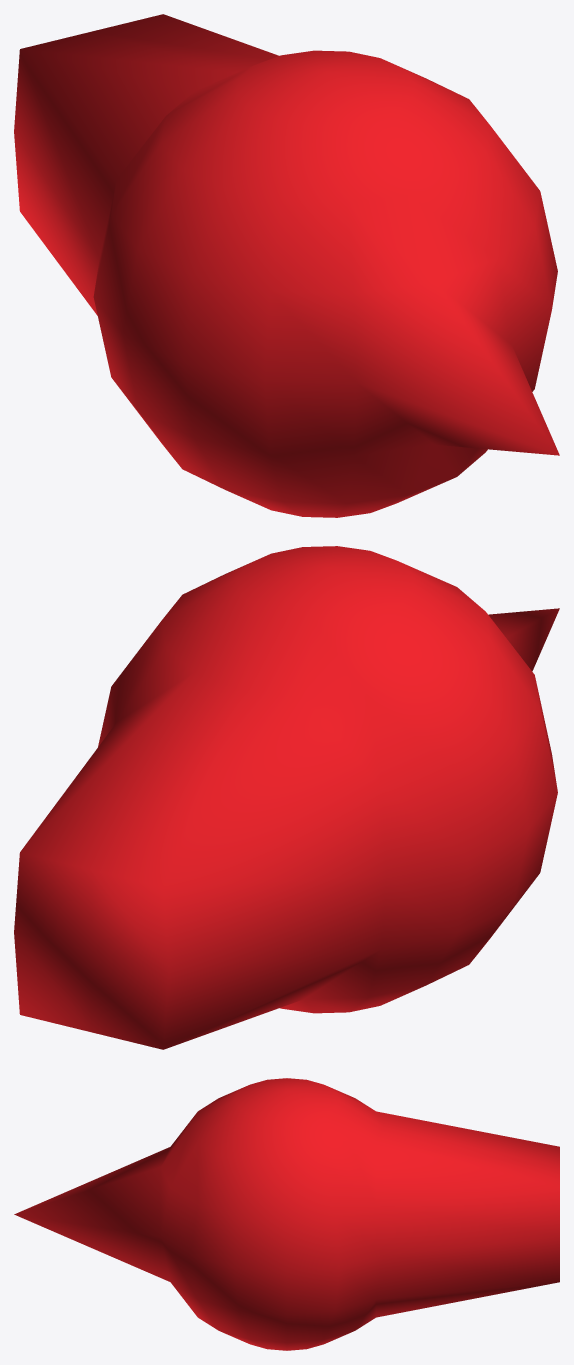
File: Player1_FBX.FBX
3 renders of one model, top to bottom at view 1: azimuth 30°, elevation 25°; view 2: azimuth 150°, elevation 25°; view 3: azimuth 270°, elevation 25°, orthographic. The views are drawn at different scales.
Visible parts, largest first — view 1: Sphere001; view 2: Sphere001; view 3: Sphere001.
Part boxes in pixels (x1,y1,x2,y2): Sphere001: (14,14,559,517); Sphere001: (14,546,559,1049); Sphere001: (14,1078,559,1350).
Bounding box in the file's own units: 10 × 10 × 20.
1 material, 1 textured.
